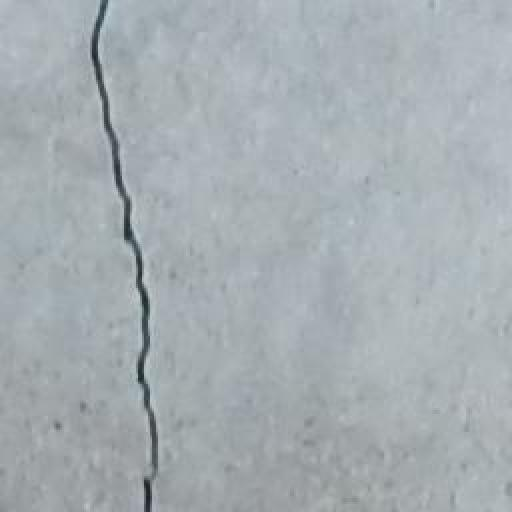spalling: (78, 7, 191, 507)
